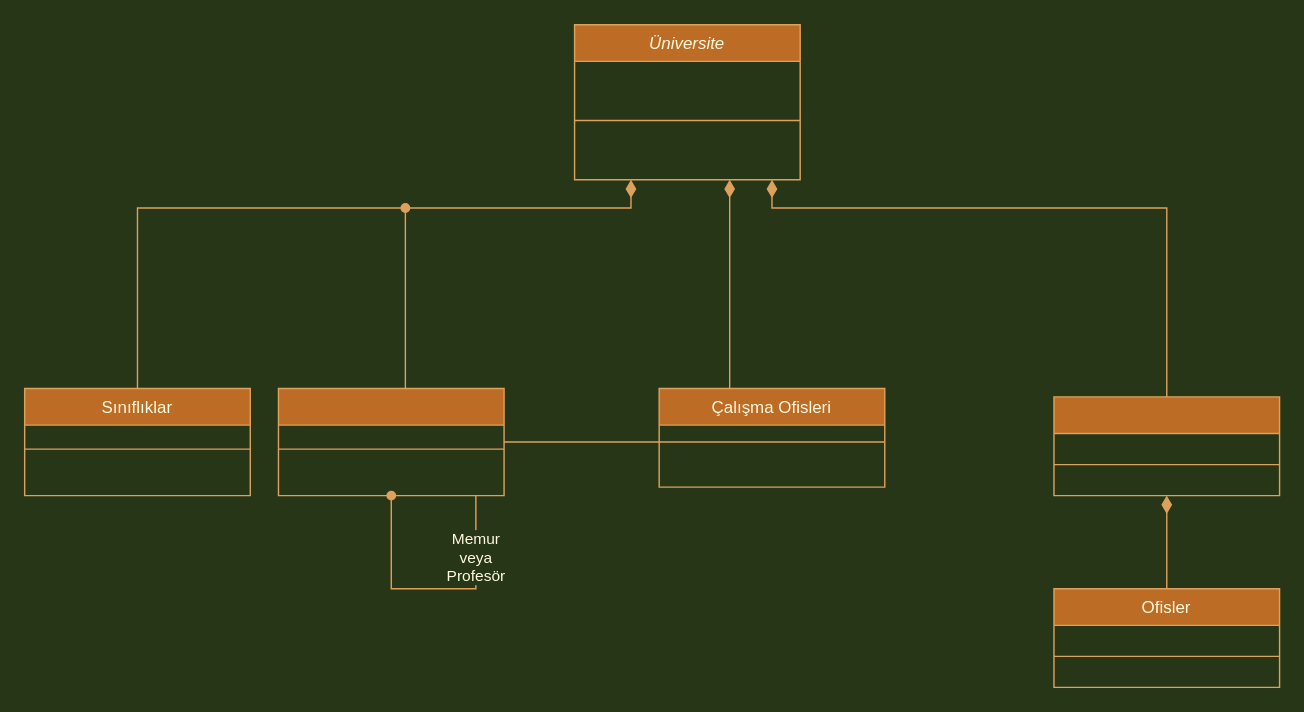
Image size: 1304x712. Some labels were removed from this diagram. Each missing label, with the centre of its shape:
"Departmanlar" belongs at point (1166, 446).
"Çalışanlar" belongs at point (390, 441).
